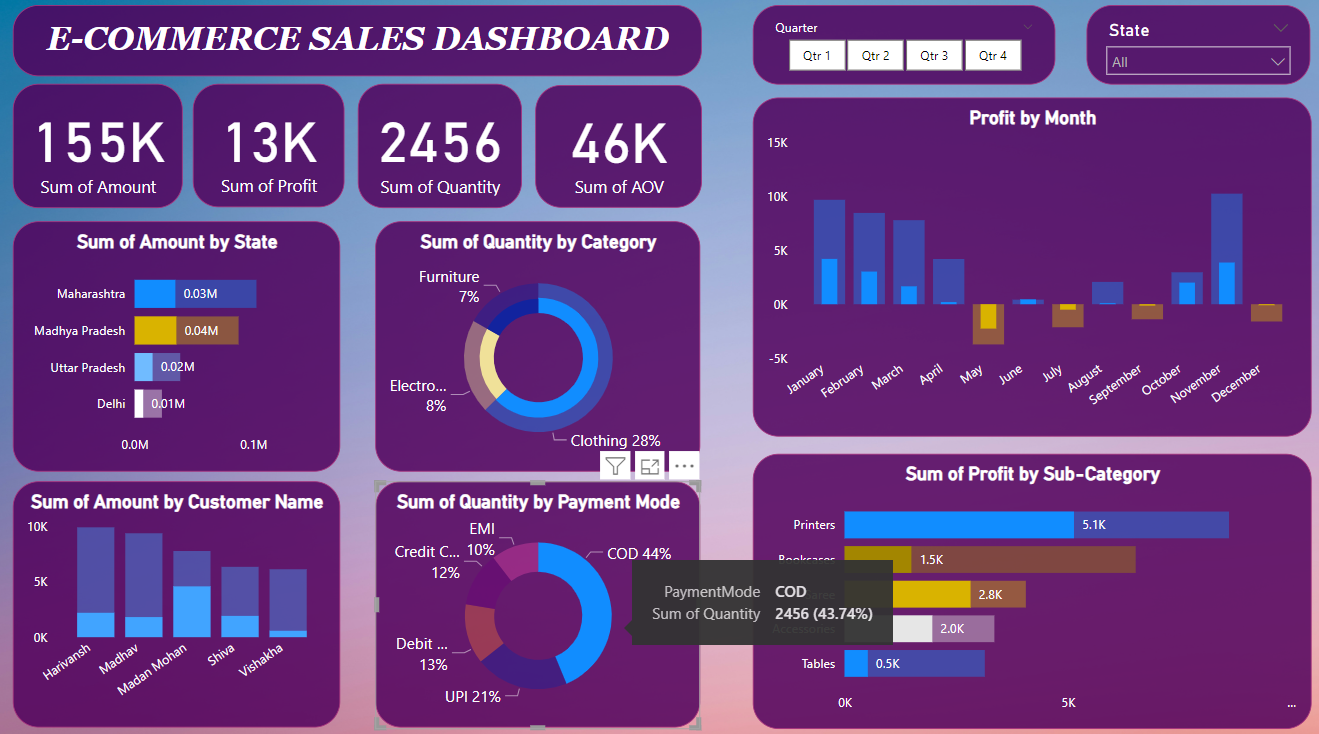

This screenshot's page, from the dashboard's own definition file:
{"tool":"powerbi","page":{"name":"Page 1","canvas":[1280,720],"ordinal":0},"visuals":[{"type":"textbox","box":[13.3,14.5,664.5,68.7],"z":0},{"type":"columnChart","title":"Profit by Month","fields":{"Category":["Orders.Order Date.Variation.Date Hierarchy.Month"],"Y":["Sum(Details.Profit)"]},"box":[727.2,103.7,539.1,326.8],"z":1000},{"type":"barChart","fields":{"Category":["Details.Sub-Category"],"Y":["Sum(Details.Profit)"]},"box":[726,445,539.1,266.5],"z":2000},{"type":"donutChart","fields":{"Category":["Details.Category"],"Y":["Sum(Details.Quantity)"]},"box":[363,223.1,313.6,241.2],"z":3000},{"type":"donutChart","title":"Sum of Quantity by Payment Mode","fields":{"Y":["Sum(Details.Quantity)"],"Category":["Details.PaymentMode"]},"box":[362.5,473.9,313.6,238.6],"z":4000},{"type":"card","fields":{"Values":["Sum(Details.Amount)"]},"box":[13,91,164,120],"z":5000},{"type":"card","fields":{"Values":["Sum(Details.Quantity)"]},"box":[346,90,158,120],"z":6000},{"type":"card","fields":{"Values":["Sum(Details.Profit)"]},"box":[187,91,146,119],"z":7000},{"type":"card","fields":{"Values":["Sum(Details.AOV)"]},"box":[517,92,161,118],"z":8000},{"type":"barChart","fields":{"Category":["Orders.State"],"Y":["Sum(Details.Amount)"]},"box":[13.3,223.1,316,241.2],"z":9000},{"type":"columnChart","title":"Sum of Amount by Customer Name","fields":{"Category":["Orders.CustomerName"],"Y":["Sum(Details.Amount)"]},"box":[13.6,473.9,315.9,238.6],"z":10000},{"type":"slicer","fields":{"Values":["Orders.Order Date.Variation.Date Hierarchy.Quarter"]},"box":[727.2,14.5,291.9,77.2],"z":11000},{"type":"slicer","fields":{"Values":["Orders.State"]},"box":[1049.2,14.5,215.9,77.2],"z":12000}]}

Visuals, with their boxes in screenshot pixels (x1, y1, x2, y2), scaled from the page's 1280x720 canvas onto the 1319x734 screenshot:
textbox: crop(14, 15, 698, 85)
"Profit by Month" columnChart: crop(749, 106, 1305, 439)
barChart - Details.Sub-Category x Sum(Details.Profit): crop(748, 454, 1304, 725)
donutChart - Details.Category x Sum(Details.Quantity): crop(374, 227, 697, 473)
"Sum of Quantity by Payment Mode" donutChart: crop(374, 483, 697, 726)
card - Sum(Details.Amount): crop(13, 93, 182, 215)
card - Sum(Details.Quantity): crop(357, 92, 519, 214)
card - Sum(Details.Profit): crop(193, 93, 343, 214)
card - Sum(Details.AOV): crop(533, 94, 699, 214)
barChart - Orders.State x Sum(Details.Amount): crop(14, 227, 339, 473)
"Sum of Amount by Customer Name" columnChart: crop(14, 483, 340, 726)
slicer - Orders.Order Date.Variation.Date Hierarchy.Quarter: crop(749, 15, 1050, 93)
slicer - Orders.State: crop(1081, 15, 1304, 93)
